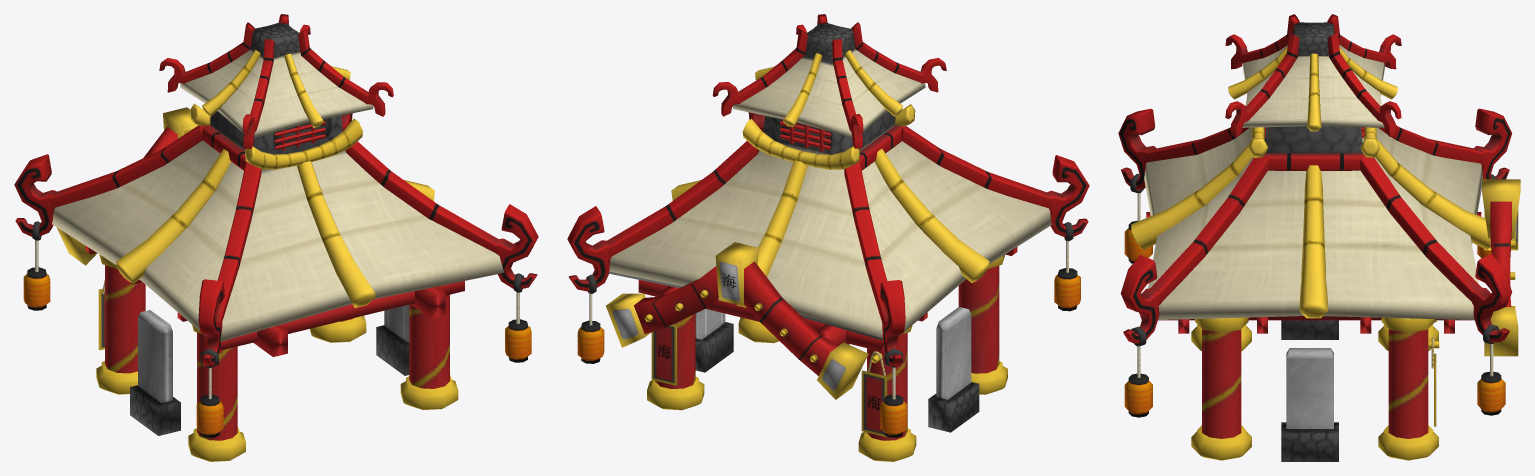
File: Sanctuary.fbx
The picture shows the model from 3 angles, left to right: view 1: azimuth 30°, elevation 25°; view 2: azimuth 150°, elevation 25°; view 3: azimuth 270°, elevation 25°; orthographic projection.
Visible parts, largest first — view 1: First_Roof, Second_Roof, Ornate_Components7, Ornate_Components1, Gravestone_Right, Ornate_Components8, Pilar2, Props_Roofs8, Pilar3, Props_Roofs7, Pilar4, Wood_Structure5 (+19 smaller); view 2: First_Roof, Second_Roof, Entrance_Post, Ornate_Components6, Ornate_Components8, Gravestone_Right, Ornate_Components1, Pilar4, Entrance_Side_Cube, Props_Roofs8, Props_Roofs2, Props_Roofs3 (+20 smaller); view 3: First_Roof, Second_Roof, Gravestone_Left, Ornate_Components6, Ornate_Components7, Pilar1, Pilar3, Props_Roofs9, Ornate_Components1, Ornate_Components8, Props_Roofs3, Props_Roofs7 (+22 smaller).
Boxes of the visible parts, x1,y1,x2,y2 form: First_Roof: [52, 111, 503, 341]; Second_Roof: [180, 23, 373, 137]; Ornate_Components7: [345, 141, 538, 288]; Ornate_Components1: [14, 125, 203, 236]; Gravestone_Right: [130, 310, 180, 435]; Ornate_Components8: [198, 162, 261, 366]; Pilar2: [105, 265, 145, 373]; Props_Roofs8: [116, 148, 231, 283]; Pilar3: [409, 294, 449, 388]; Props_Roofs7: [297, 161, 376, 307]; Pilar4: [197, 332, 237, 440]; Wood_Structure5: [220, 281, 464, 349]; First_Roof: [608, 111, 1051, 340]; Second_Roof: [733, 23, 925, 137]; Entrance_Post: [634, 261, 839, 375]; Ornate_Components6: [567, 141, 759, 291]; Ornate_Components8: [901, 126, 1089, 237]; Gravestone_Right: [928, 307, 979, 432]; Ornate_Components1: [844, 162, 905, 366]; Pilar4: [958, 265, 999, 373]; Entrance_Side_Cube: [606, 293, 868, 399]; Props_Roofs8: [874, 148, 989, 282]; Props_Roofs2: [742, 104, 915, 169]; Props_Roofs3: [737, 160, 807, 307]; First_Roof: [1144, 126, 1482, 320]; Second_Roof: [1242, 22, 1384, 127]; Gravestone_Left: [1281, 348, 1338, 461]; Ornate_Components6: [1359, 156, 1512, 342]; Ornate_Components7: [1120, 156, 1268, 343]; Pilar1: [1388, 329, 1428, 438]; Pilar3: [1202, 329, 1241, 438]; Props_Roofs9: [1299, 165, 1328, 318]; Ornate_Components1: [1378, 108, 1512, 179]; Ornate_Components8: [1118, 108, 1249, 190]; Props_Roofs3: [1375, 138, 1490, 249]; Props_Roofs7: [1131, 141, 1252, 249].
Size of the model in its own units: 32.1 by 32.98 by 32.32.
2 materials, 2 textured.
